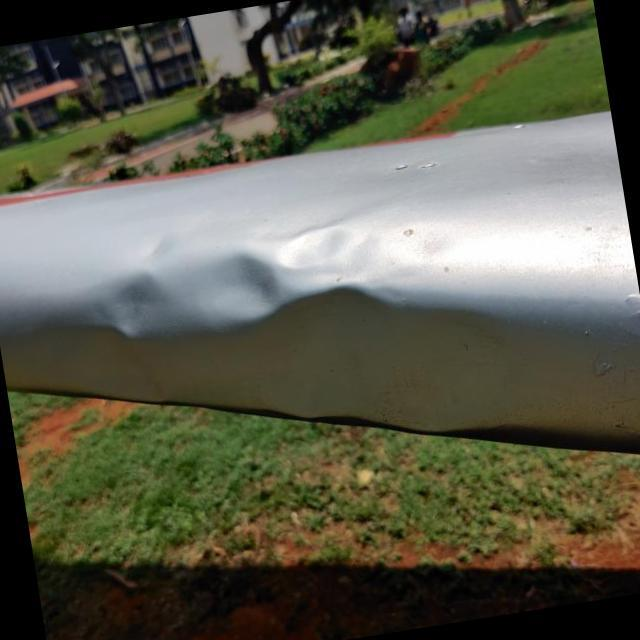Dent: (173, 180, 477, 464), (68, 221, 200, 370)
